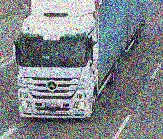truck: (13, 0, 147, 120)
